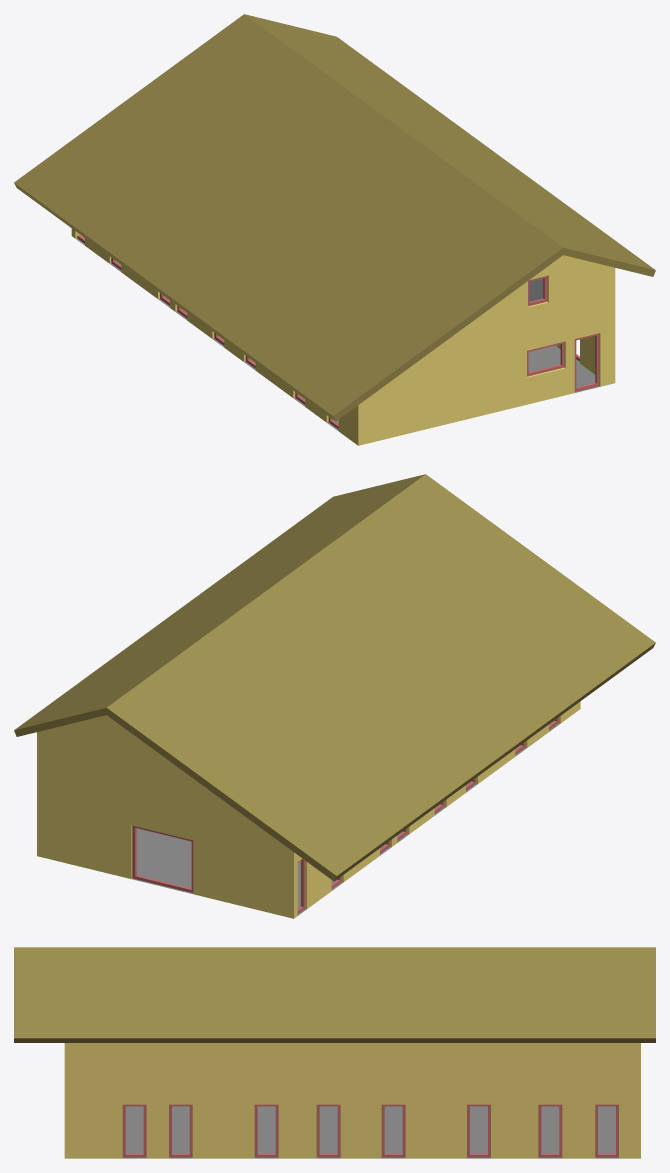
The model's file is result.glb.
3 renders of one model, top to bottom at view 1: azimuth 30°, elevation 25°; view 2: azimuth 150°, elevation 25°; view 3: azimuth 270°, elevation 25°, orthographic.
Parts seen in each view (by area): view 1: 84bf4ac6-042d-4908-aefa-b6312150e363__undefined (×2), acf36317-321a-402c-aba0-2c4d34092336__undefined, b9db50fe-813e-44df-9ed4-33f421495499__Plane_36; view 2: 84bf4ac6-042d-4908-aefa-b6312150e363__undefined (×2), acf36317-321a-402c-aba0-2c4d34092336__undefined, b9db50fe-813e-44df-9ed4-33f421495499__Plane_36, 9478066c-b53b-428c-a8a6-c4d4b5f791cd__Box_9; view 3: 84bf4ac6-042d-4908-aefa-b6312150e363__undefined, acf36317-321a-402c-aba0-2c4d34092336__undefined, b9db50fe-813e-44df-9ed4-33f421495499__Plane_36, b9ea0172-e559-4273-b700-fd46d8691de0__Box_60, 9c9ff041-6267-4e02-9e85-320eb76a1143__Box_66, 45600027-a529-40b3-ae4c-413bc0367cbe__Box_69, 3925243f-baec-47e3-8afb-ef7d0dffe18b__Box_72, ddf7ecfb-9cc9-402b-a0cf-3187a4866e32__Box_78, 398f98bd-f25f-44d3-846a-f533be1b767c__Box_63, 9a39a425-4cba-4ef4-87d2-1bd4650806a0__Box_75, fde91505-3927-4e61-a201-e7ee36855bec__Box_81.
Part boxes in pixels (left/top/right/bottom): 84bf4ac6-042d-4908-aefa-b6312150e363__undefined (×2): left=14, top=14, right=655, bottom=421; acf36317-321a-402c-aba0-2c4d34092336__undefined: left=71, top=228, right=615, bottom=445; b9db50fe-813e-44df-9ed4-33f421495499__Plane_36: left=76, top=237, right=599, bottom=430; 84bf4ac6-042d-4908-aefa-b6312150e363__undefined (×2): left=14, top=474, right=655, bottom=881; acf36317-321a-402c-aba0-2c4d34092336__undefined: left=37, top=701, right=580, bottom=918; b9db50fe-813e-44df-9ed4-33f421495499__Plane_36: left=131, top=721, right=560, bottom=915; 9478066c-b53b-428c-a8a6-c4d4b5f791cd__Box_9: left=132, top=825, right=193, bottom=892; 84bf4ac6-042d-4908-aefa-b6312150e363__undefined: left=14, top=947, right=655, bottom=1042; acf36317-321a-402c-aba0-2c4d34092336__undefined: left=64, top=1043, right=640, bottom=1158; b9db50fe-813e-44df-9ed4-33f421495499__Plane_36: left=122, top=1106, right=618, bottom=1158; b9ea0172-e559-4273-b700-fd46d8691de0__Box_60: left=122, top=1104, right=146, bottom=1157; 9c9ff041-6267-4e02-9e85-320eb76a1143__Box_66: left=254, top=1104, right=278, bottom=1157; 45600027-a529-40b3-ae4c-413bc0367cbe__Box_69: left=316, top=1104, right=340, bottom=1157; 3925243f-baec-47e3-8afb-ef7d0dffe18b__Box_72: left=381, top=1104, right=405, bottom=1157; ddf7ecfb-9cc9-402b-a0cf-3187a4866e32__Box_78: left=538, top=1104, right=562, bottom=1157; 398f98bd-f25f-44d3-846a-f533be1b767c__Box_63: left=169, top=1104, right=192, bottom=1157; 9a39a425-4cba-4ef4-87d2-1bd4650806a0__Box_75: left=467, top=1104, right=490, bottom=1157; fde91505-3927-4e61-a201-e7ee36855bec__Box_81: left=595, top=1104, right=618, bottom=1157.
Bounding box in the file's own units: 1254 × 641 × 2147.
